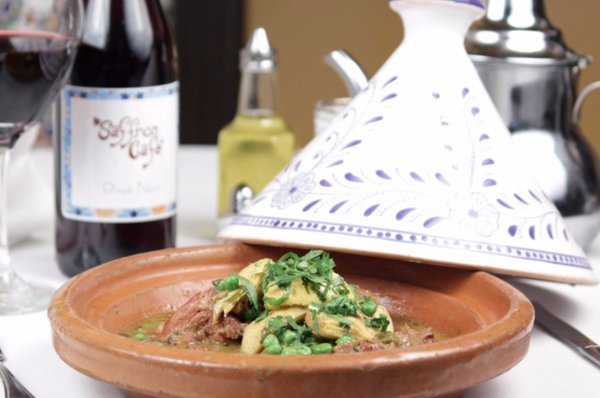curry: (208, 248, 395, 351)
sushi: (46, 239, 564, 396)
